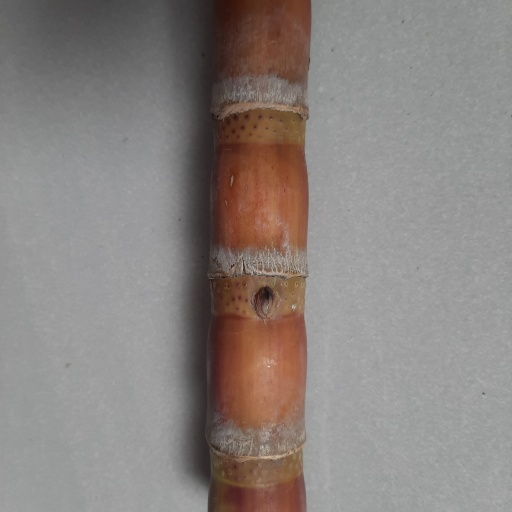Bud: (253, 286, 276, 319)
